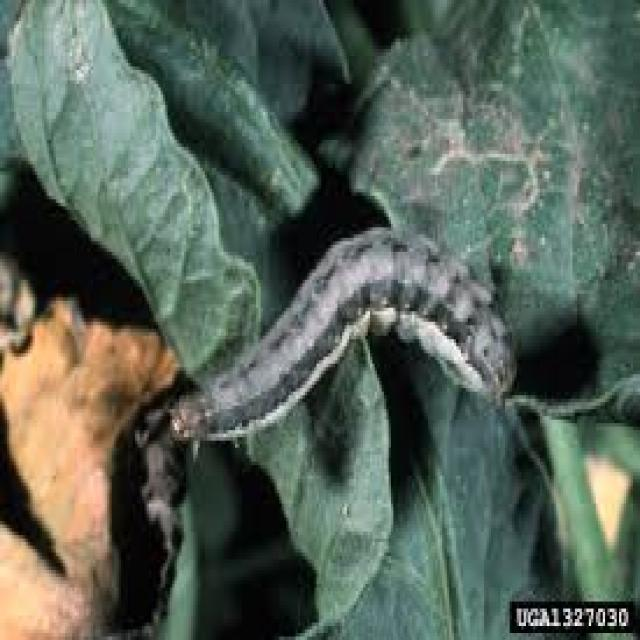Army Worm: (169, 220, 522, 448)
